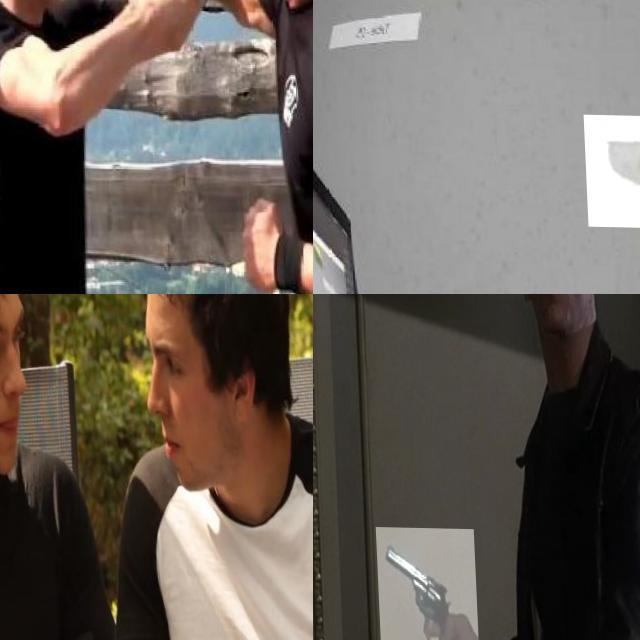-: (581, 113, 640, 228), (89, 0, 157, 84)
gun-knife-thesis - v11 Yolov5 augmented: (371, 526, 476, 640)
